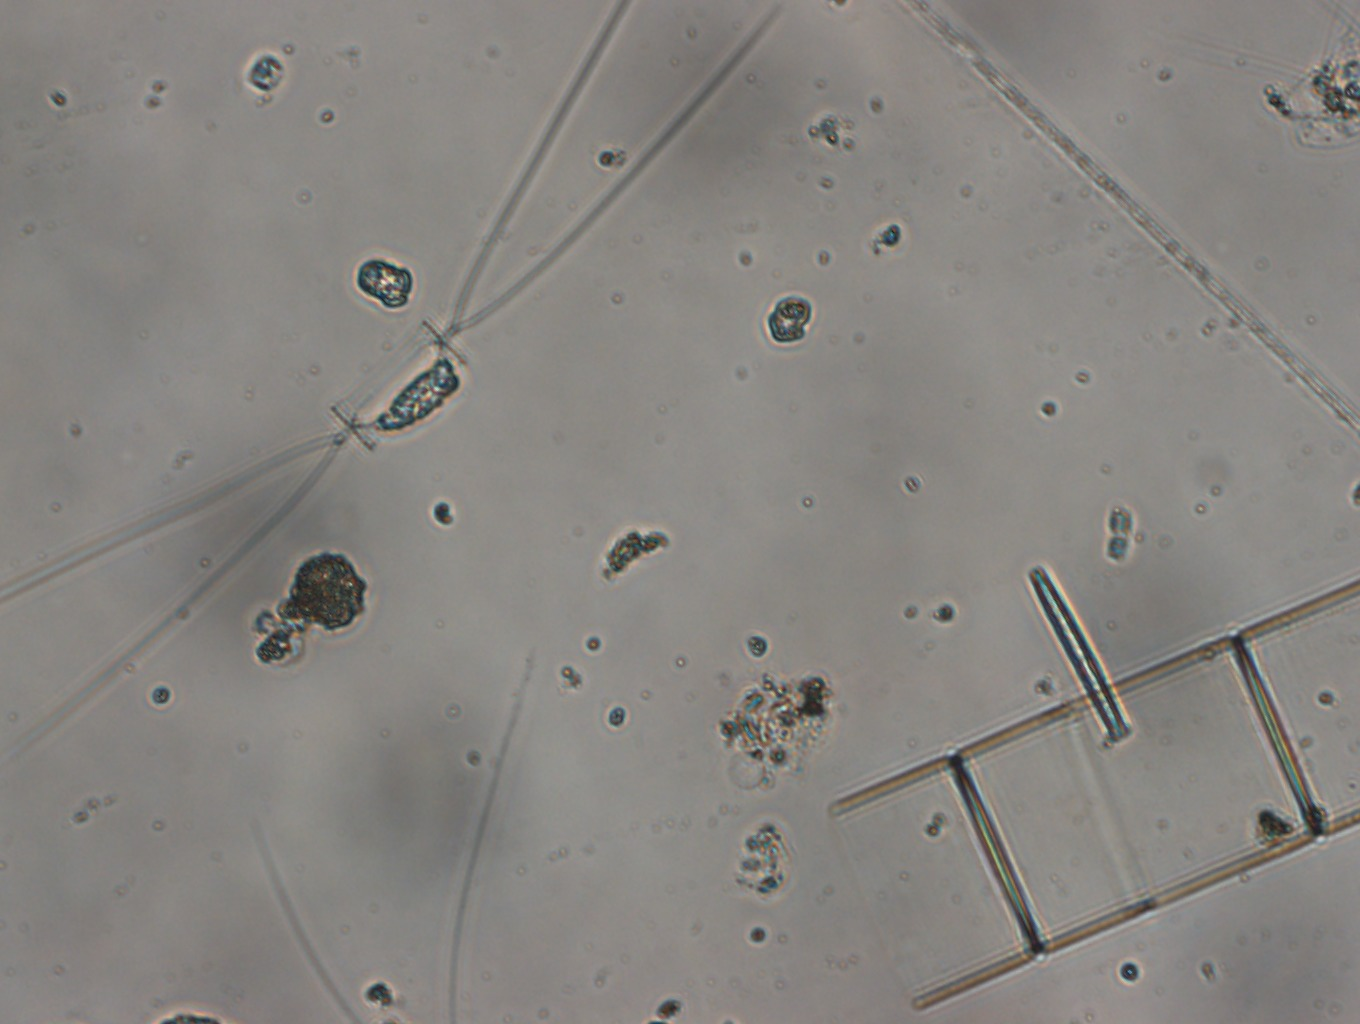chaetoceros: (3, 1, 779, 751)
guinardia flaccida: (826, 570, 1360, 1008)
